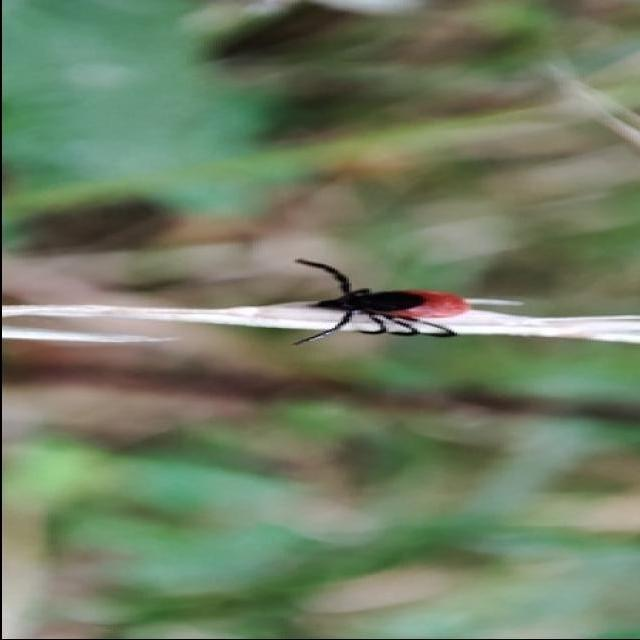Ixodes Ricinus-F: (287, 260, 469, 347)
